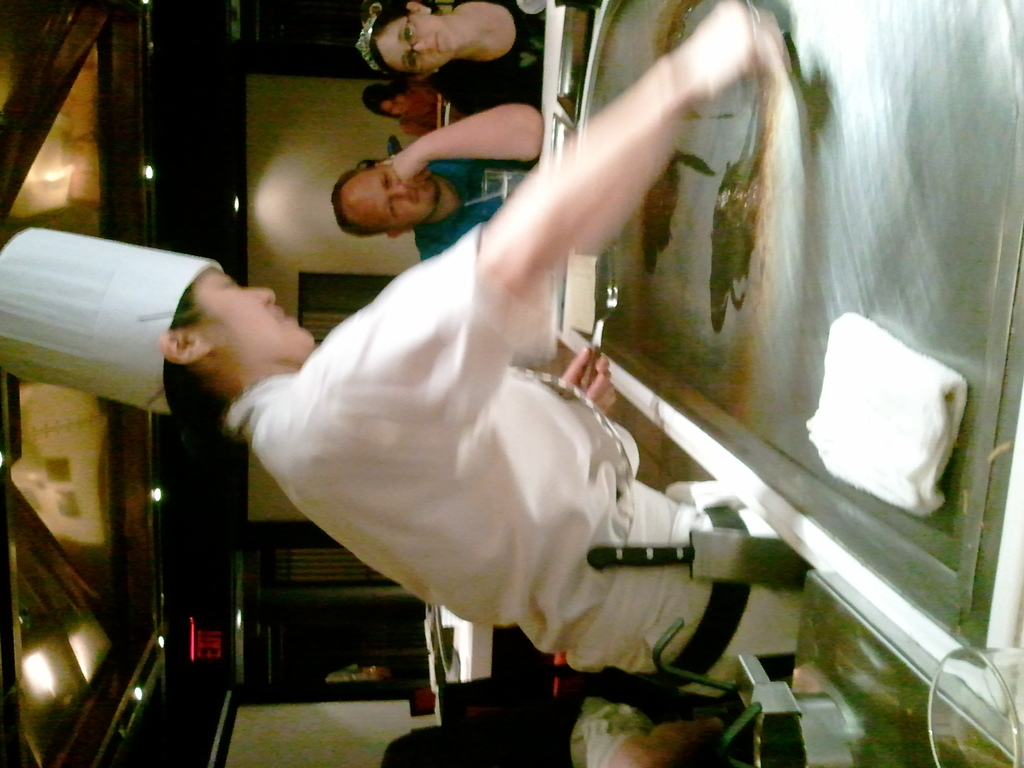Human_hand: (664, 0, 784, 101), (559, 346, 616, 412), (394, 152, 423, 186)
